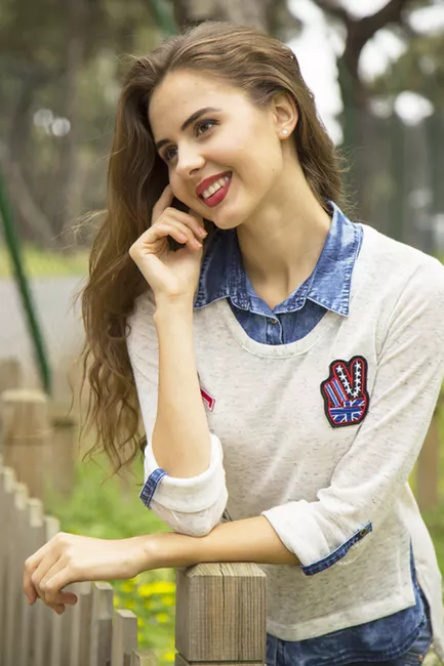face: (149, 71, 269, 231)
